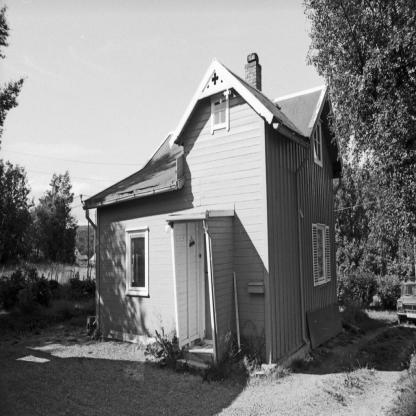Car: (396, 281, 415, 326)
